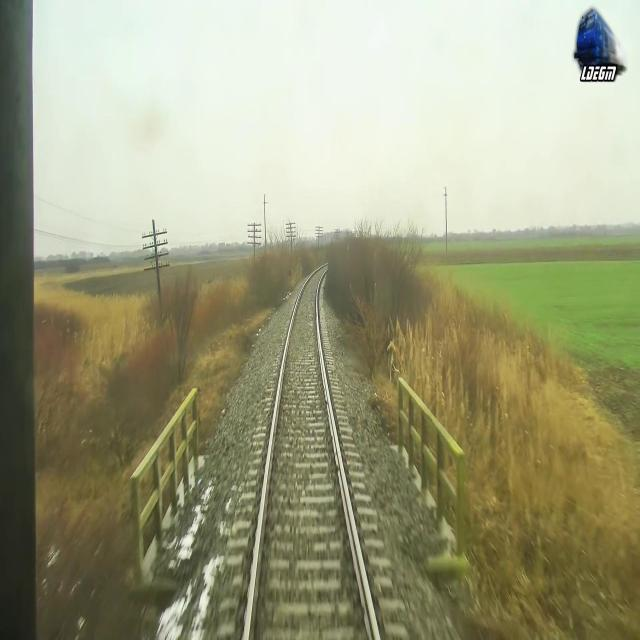rail-track: (247, 264, 374, 639)
